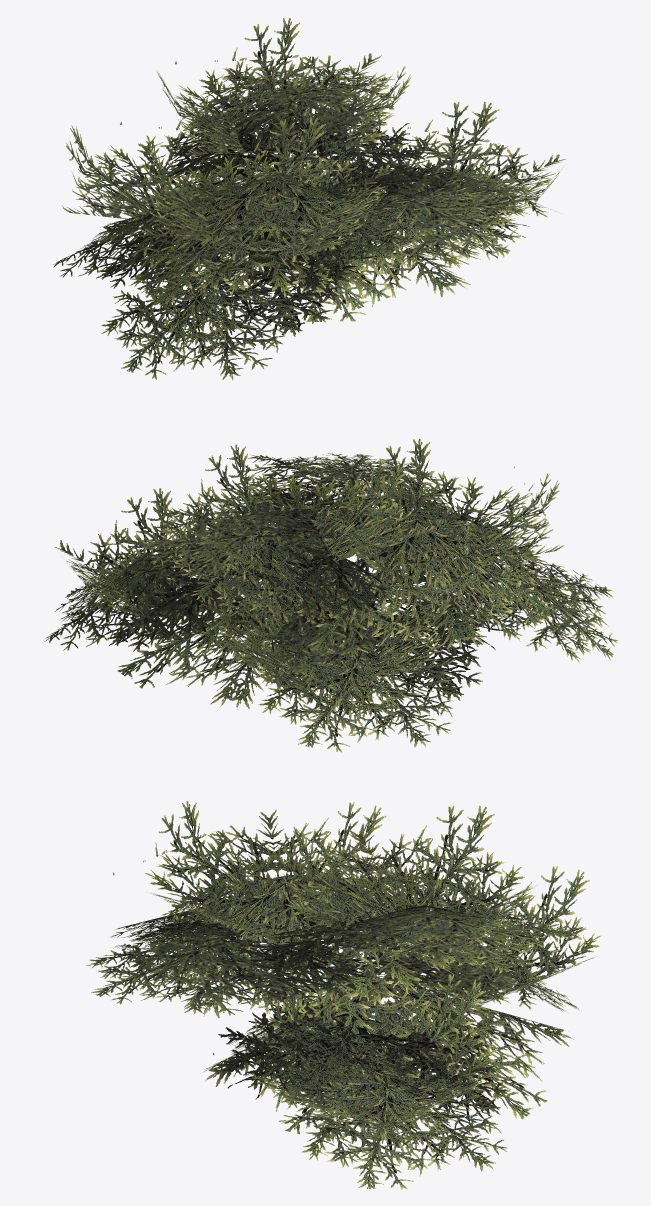
File: flora_tree_bush_steppe_02.glb
The picture shows the model from 3 angles, top to bottom: view 1: azimuth 30°, elevation 25°; view 2: azimuth 150°, elevation 25°; view 3: azimuth 270°, elevation 25°; orthographic projection. The views are drawn at different scales.
Parts seen in each view (by area): view 1: flora_tree_bush_steppe_02_part0; view 2: flora_tree_bush_steppe_02_part0; view 3: flora_tree_bush_steppe_02_part0.
Boxes of the visible parts, x1,y1,x2,y2 form: flora_tree_bush_steppe_02_part0: (52, 18, 565, 380); flora_tree_bush_steppe_02_part0: (44, 439, 617, 752); flora_tree_bush_steppe_02_part0: (86, 801, 601, 1189).
Size of the model in its own units: 9.25 by 3.25 by 8.45.
1 material, 1 textured.
